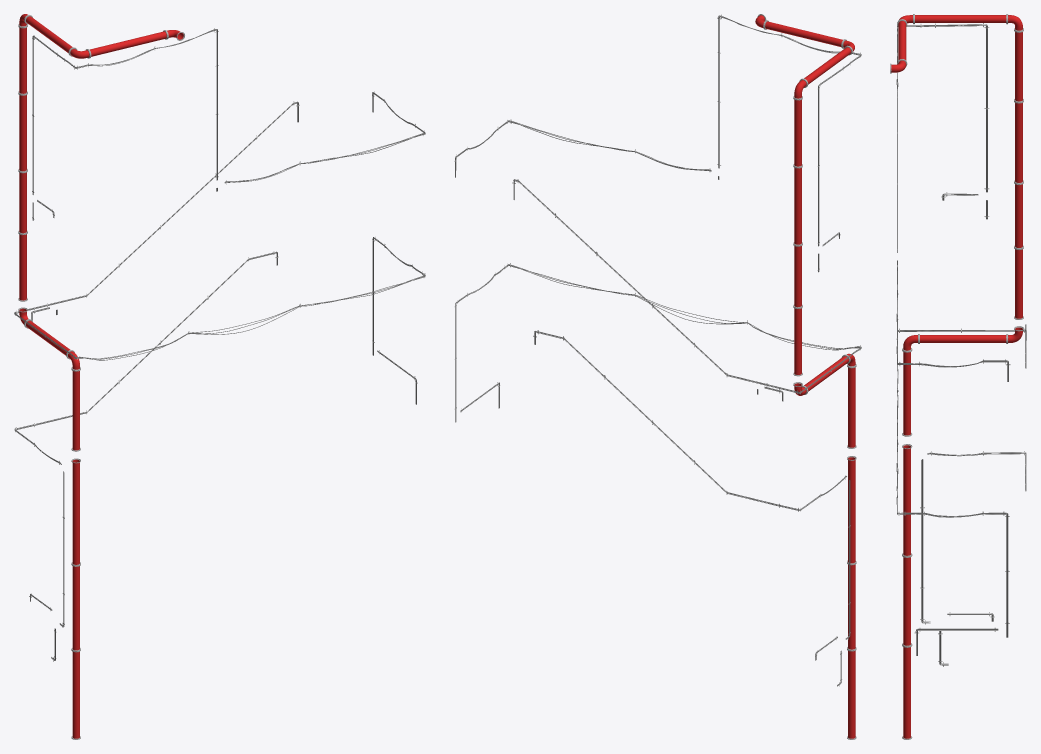
3 renders of one model, left to right at view 1: azimuth 30°, elevation 25°; view 2: azimuth 150°, elevation 25°; view 3: azimuth 270°, elevation 25°, orthographic. The views are drawn at different scales.
Parts seen in each view (by area): view 1: SM_H_Building_FutureTech_CtControl_01_InterWall_05A; view 2: SM_H_Building_FutureTech_CtControl_01_InterWall_05A; view 3: SM_H_Building_FutureTech_CtControl_01_InterWall_05A.
Boxes of the visible parts, <box> form: SM_H_Building_FutureTech_CtControl_01_InterWall_05A: <box>14,14,425,739</box>; SM_H_Building_FutureTech_CtControl_01_InterWall_05A: <box>454,14,861,739</box>; SM_H_Building_FutureTech_CtControl_01_InterWall_05A: <box>890,14,1026,739</box>.
Size of the model in its own units: 122 by 381 by 715.
